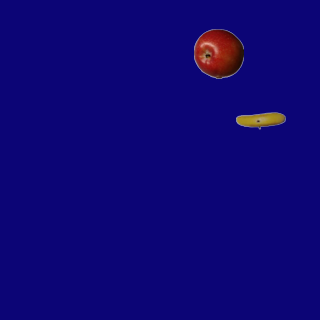Apple Braeburn: (193, 28, 243, 78)
Banana: (235, 95, 285, 145)
